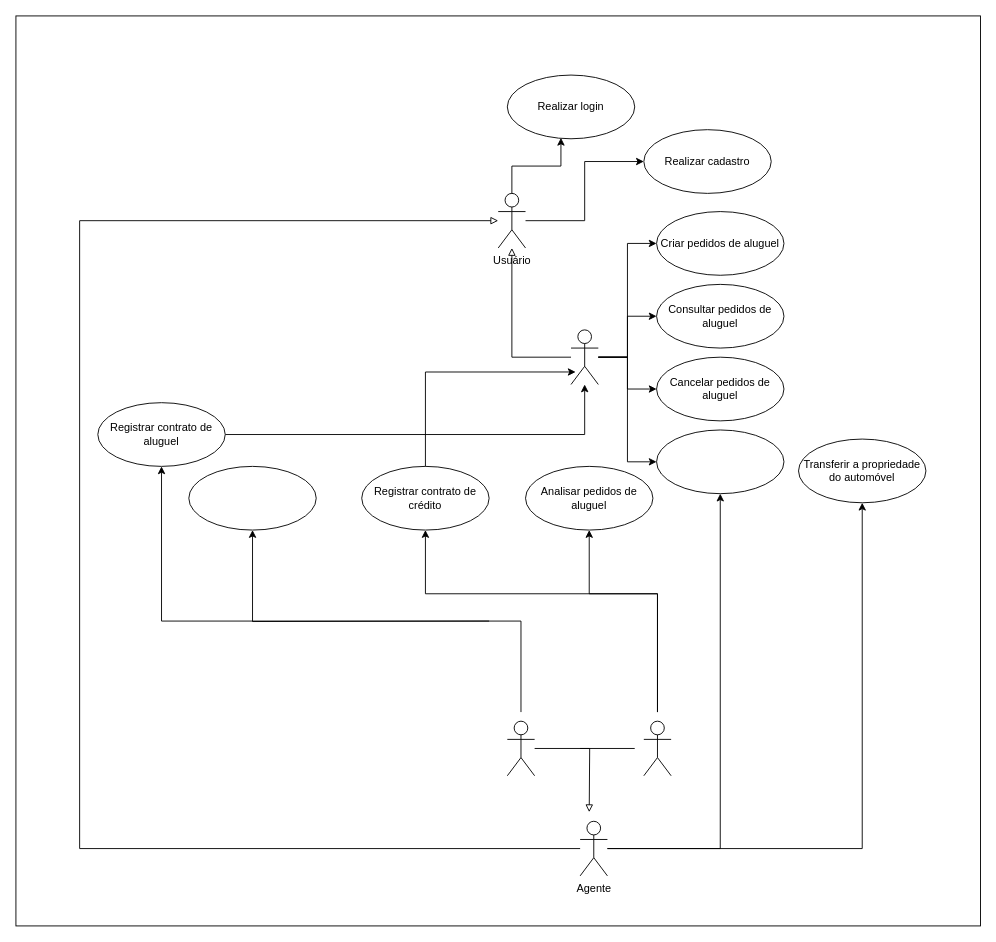
Some shapes in this 996 by 942 pixel diagram are drawn without their labels. Each missing label, with the centre of its shape:
Agente Bancário: pixel 657 748
Avaliar pedidos de aluguel: pixel 252 497
Cliente: pixel 584 356
Funcionário: pixel 520 748
Modificar pedidos de aluguel: pixel 720 461
